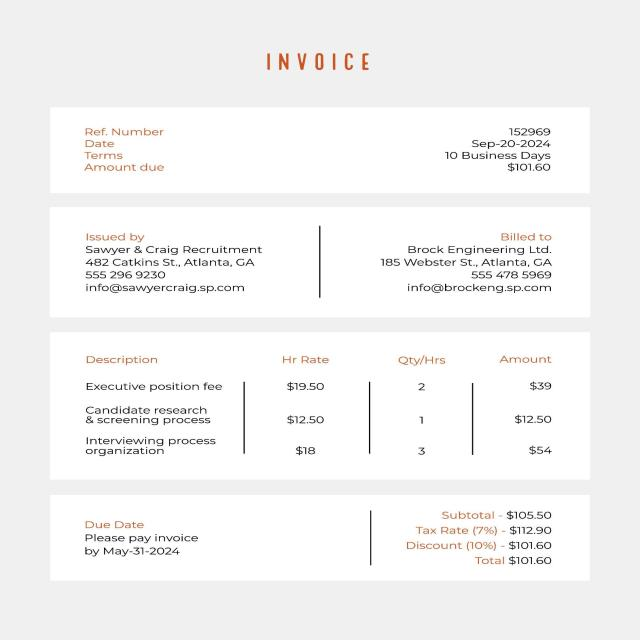paragraph: (80, 227, 558, 303), (77, 124, 554, 176), (402, 508, 554, 568), (78, 513, 209, 558), (256, 48, 376, 76)
table: (78, 353, 562, 458)
